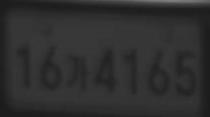1: (121, 48, 144, 93), (14, 43, 36, 88)
4: (94, 47, 118, 94)
5: (173, 49, 197, 95)
6: (38, 44, 63, 90), (148, 47, 171, 95)
가: (65, 54, 90, 92)
